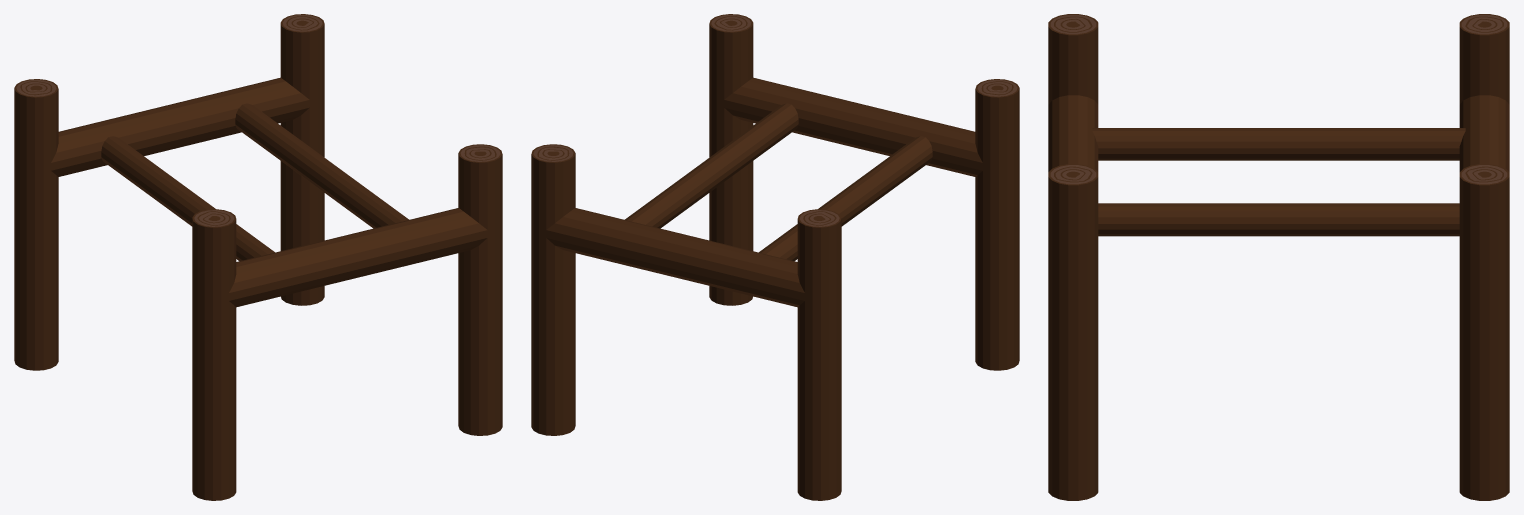
The model's file is BridgeQuadPoles.fbx.
3 views of the same model, side by side, from view 1: azimuth 30°, elevation 25°; view 2: azimuth 150°, elevation 25°; view 3: azimuth 270°, elevation 25° (orthographic). The views are drawn at different scales.
Visible parts, largest first — view 1: BridgeQuadPoles; view 2: BridgeQuadPoles; view 3: BridgeQuadPoles.
Part boxes in pixels (box(x1,y1,x2,y2)): BridgeQuadPoles: box(14, 14, 502, 500); BridgeQuadPoles: box(531, 14, 1019, 500); BridgeQuadPoles: box(1048, 14, 1509, 500).
Bounding box in the file's own units: 4.49 × 3.86 × 5.11.
